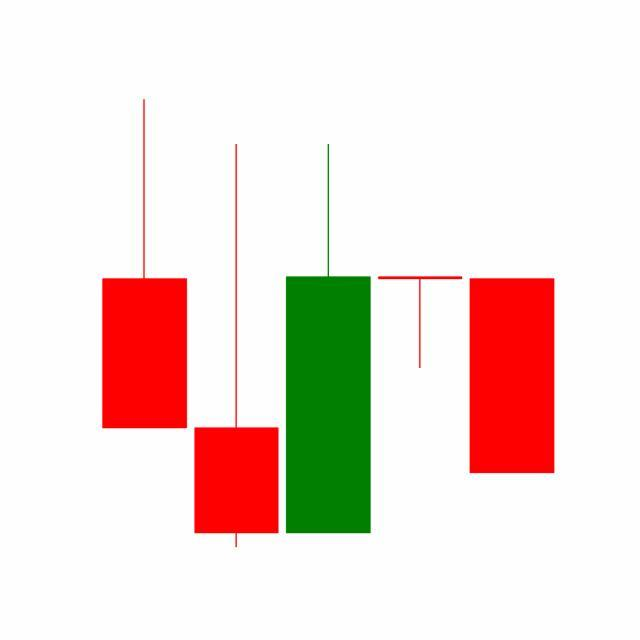Hammer: (374, 276, 468, 370)
